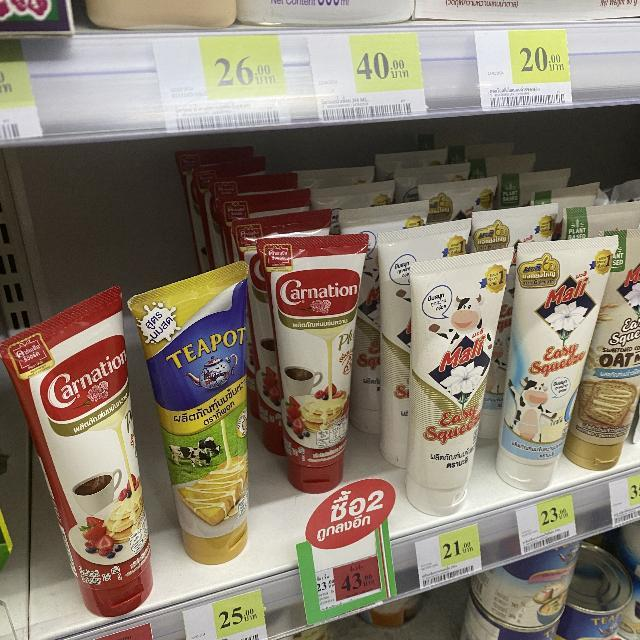Squeeze Tube: (5, 176, 640, 599)
